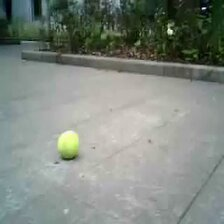tennis: (58, 130, 79, 158)
